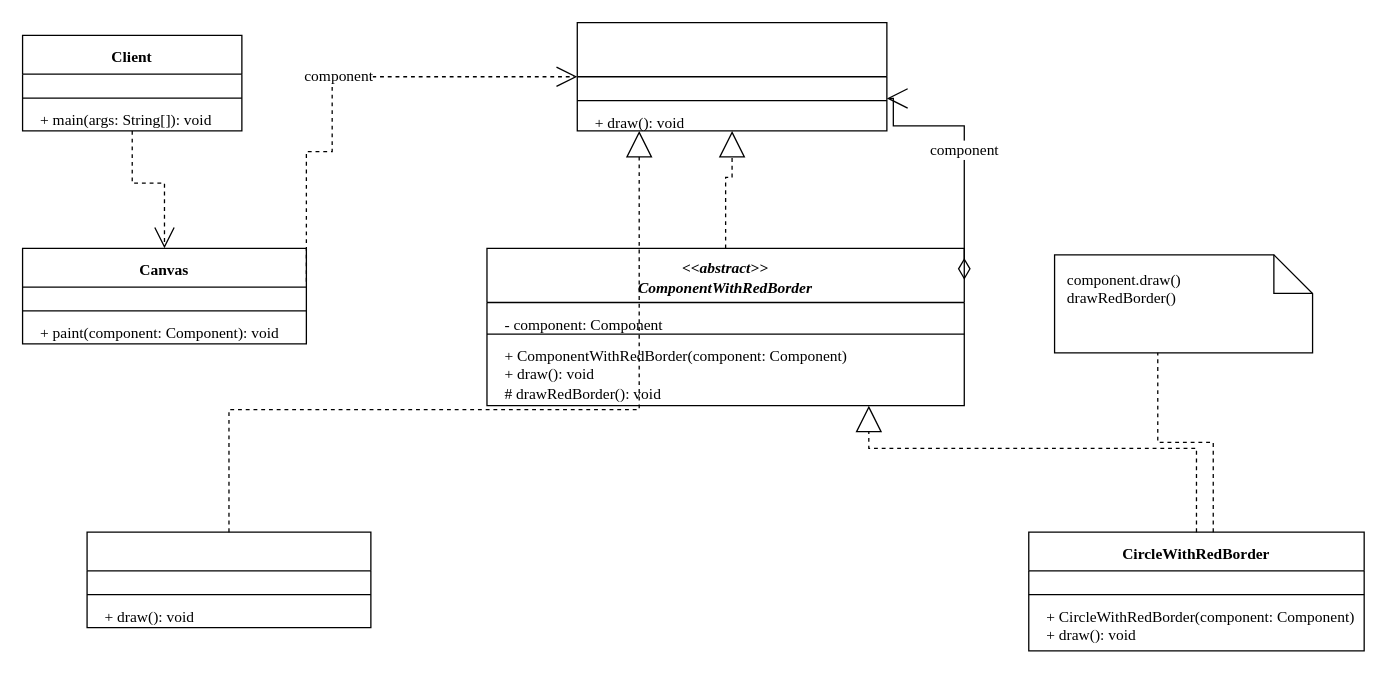
This 1387x677 diagram has some shape labels left out. The shapes that lost their labels are listed below. From the top down, each one's box as (x1, y1, x2, y2) in pixels, then its label:
(576, 21, 887, 131): <<interface>> Component
(86, 531, 371, 628): Circle
